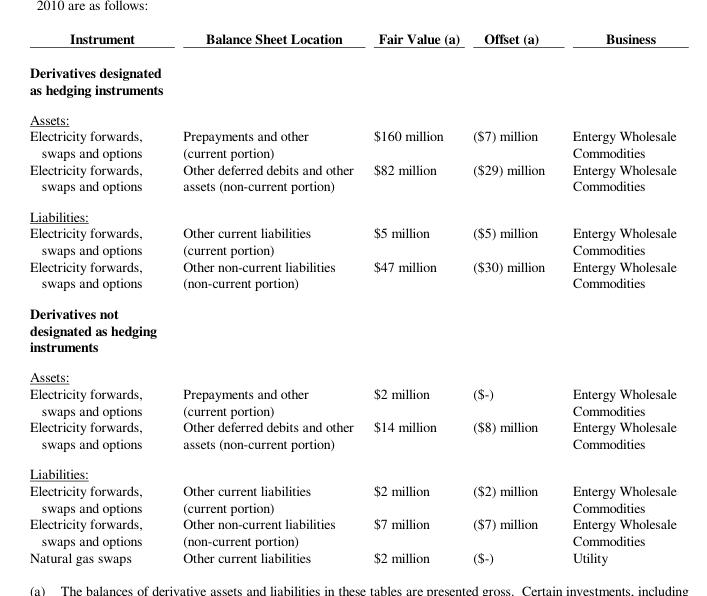table: (28, 28, 675, 565)
table column: (161, 28, 362, 565), (28, 28, 161, 565), (558, 28, 675, 565), (362, 28, 465, 565), (465, 28, 558, 565)
table column header: (28, 28, 675, 55)
table projected row header: (28, 297, 675, 361), (28, 55, 675, 103), (28, 457, 675, 481), (28, 103, 675, 126), (28, 200, 675, 223), (28, 361, 675, 384)
table row: (28, 297, 675, 361), (28, 55, 675, 103), (28, 159, 675, 200), (28, 256, 675, 297), (28, 417, 675, 457), (28, 126, 675, 159), (28, 223, 675, 256), (28, 384, 675, 417), (28, 481, 675, 514), (28, 514, 675, 547), (28, 28, 675, 55), (28, 457, 675, 481), (28, 103, 675, 126), (28, 200, 675, 223), (28, 361, 675, 384), (28, 547, 675, 565)
